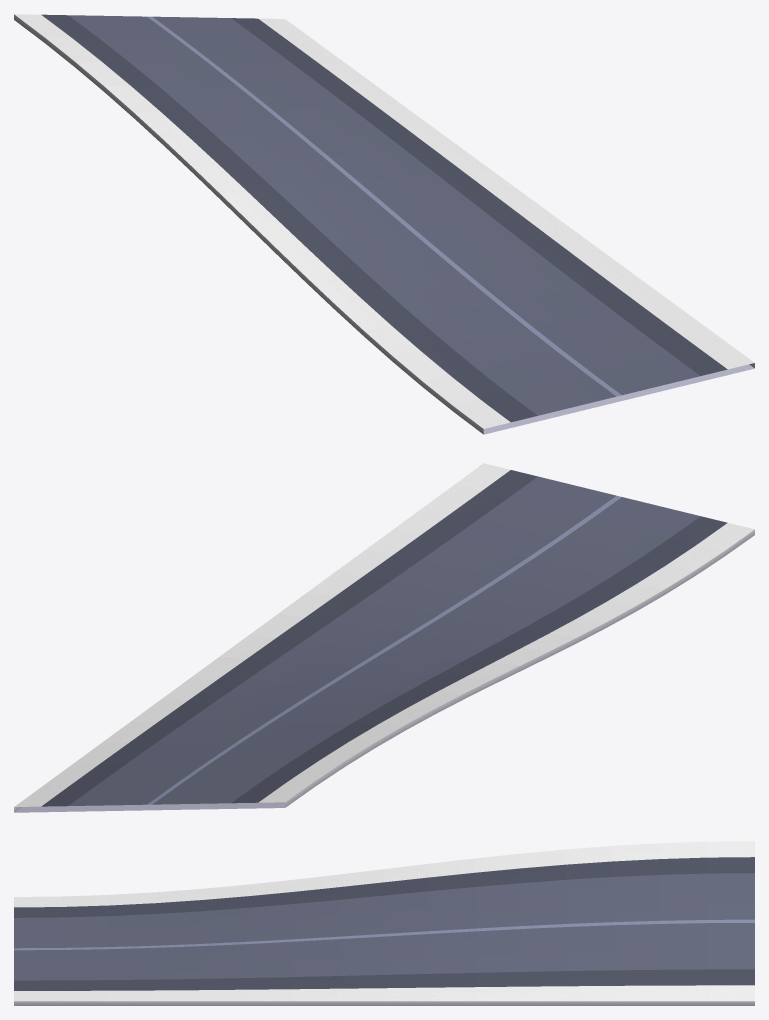
Rendered from road-Straight-Flat-HalfBankedRight-Even-Center-Size3.glb.
3 views of the same model, one above another, from view 1: azimuth 30°, elevation 25°; view 2: azimuth 150°, elevation 25°; view 3: azimuth 270°, elevation 25° (orthographic). The views are drawn at different scales.
Visible parts, largest first — view 1: road-Straight-Flat-HalfBankedRight-Even-Center-Size3; view 2: road-Straight-Flat-HalfBankedRight-Even-Center-Size3; view 3: road-Straight-Flat-HalfBankedRight-Even-Center-Size3.
Part boxes in pixels (left/top/right/bottom): road-Straight-Flat-HalfBankedRight-Even-Center-Size3: left=14, top=14, right=754, bottom=434; road-Straight-Flat-HalfBankedRight-Even-Center-Size3: left=14, top=463, right=754, bottom=812; road-Straight-Flat-HalfBankedRight-Even-Center-Size3: left=14, top=841, right=754, bottom=1005.
Size of the model in its own units: 1 by 0.27 by 3.
Materials: 1 (1 with a texture image).
